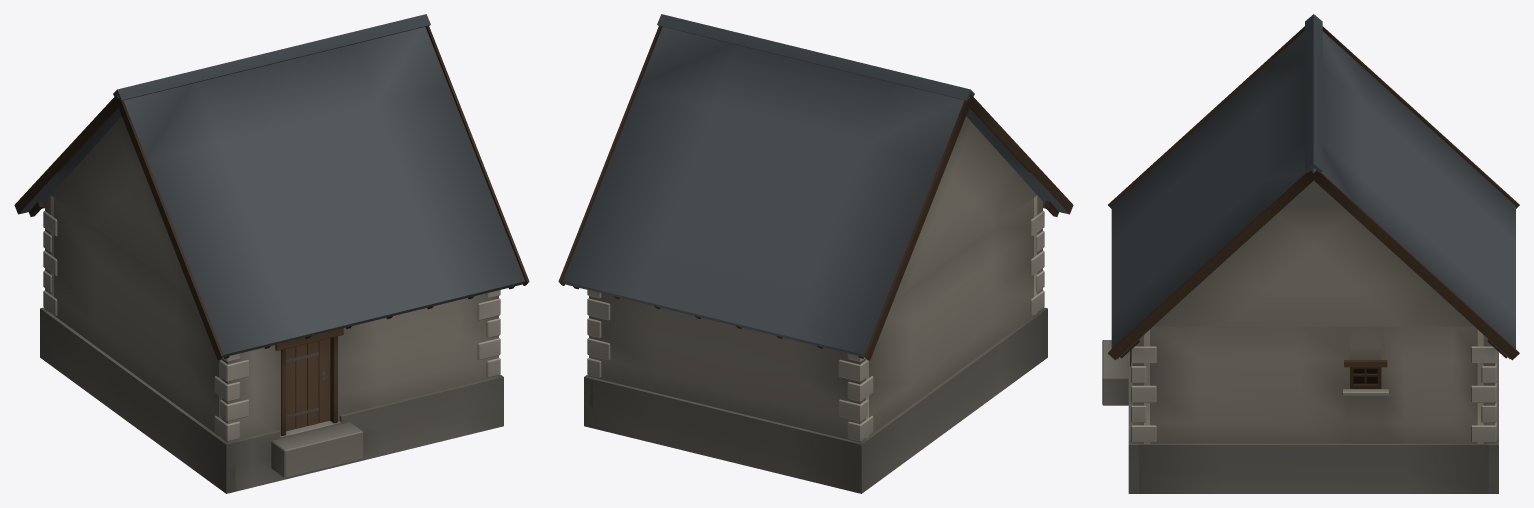
Rendered from storehouse.glb.
The picture shows the model from 3 angles, left to right: view 1: azimuth 30°, elevation 25°; view 2: azimuth 150°, elevation 25°; view 3: azimuth 270°, elevation 25°; orthographic projection.
Visible parts, largest first — view 1: ext, door0; view 2: ext; view 3: ext, int.
Part boxes in pixels (<box>): ext: <box>14,14,529,493</box>; door0: <box>286,338,330,431</box>; ext: <box>558,14,1073,493</box>; ext: <box>1102,14,1519,493</box>; int: <box>1144,330,1483,443</box>.
Size of the model in its own units: 6.84 by 7.19 by 8.05.
